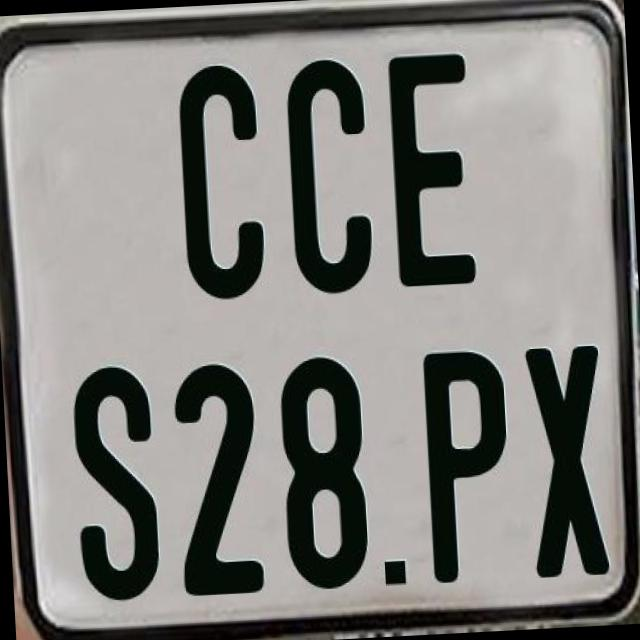2: (169, 362, 265, 600)
8: (275, 350, 373, 592)
C: (285, 55, 383, 300), (178, 64, 268, 306)
E: (384, 51, 478, 292)
P: (422, 344, 521, 588)
S: (68, 360, 158, 604)
X: (523, 343, 613, 584)
